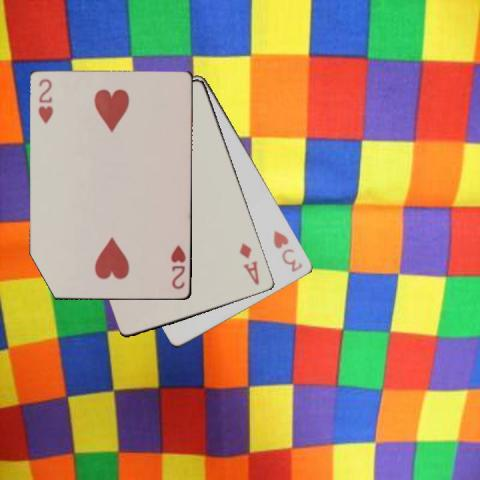2h: (35, 76, 55, 125), (168, 242, 187, 290)
3h: (270, 228, 304, 274)
Ad: (237, 240, 261, 287)
